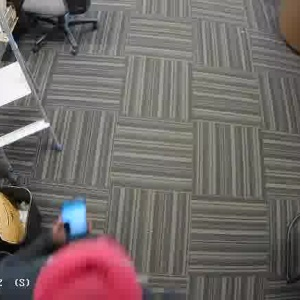person: (9, 201, 175, 300)
